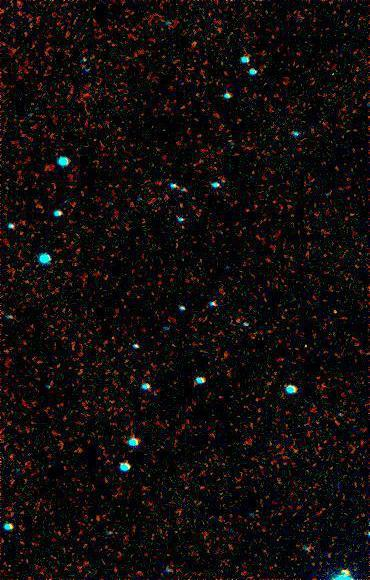star: (321, 297, 351, 327)
